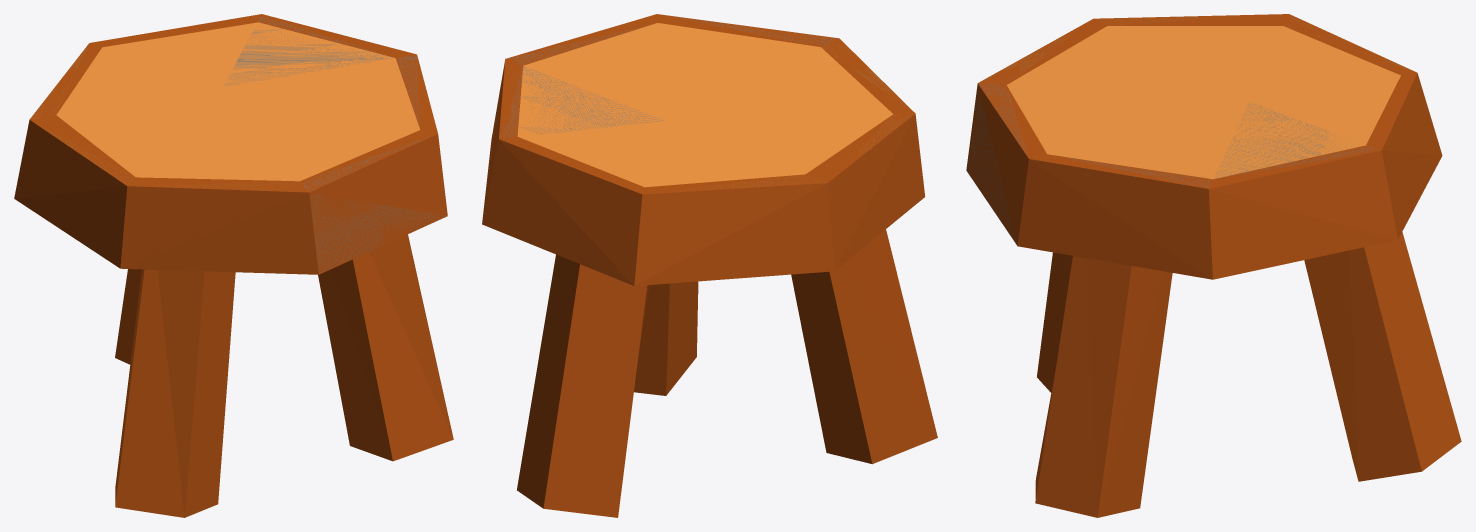
Rendered from sgabeo.fbx.
3 renders of one model, left to right at view 1: azimuth 30°, elevation 25°; view 2: azimuth 150°, elevation 25°; view 3: azimuth 270°, elevation 25°, orthographic. The views are drawn at different scales.
Visible parts, largest first — view 1: sgabeo 4, sgabeo 3; view 2: sgabeo 4, sgabeo 3; view 3: sgabeo 4, sgabeo 3.
Part boxes in pixels (x1,y1,x2,y2): sgabeo 4: (14, 14, 453, 517); sgabeo 3: (31, 16, 444, 273); sgabeo 4: (482, 14, 937, 517); sgabeo 3: (503, 15, 913, 193); sgabeo 4: (966, 14, 1461, 517); sgabeo 3: (967, 15, 1411, 242).
Size of the model in its own units: 0.4054 by 0.3539 by 0.4362.
